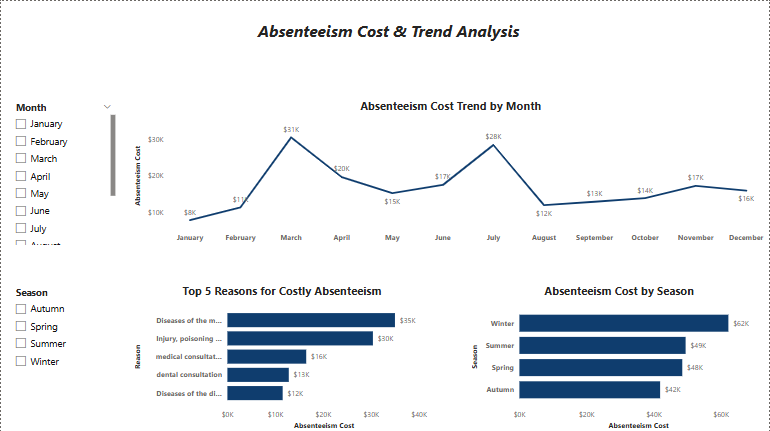

The page's visual inventory and layout, read from the dashboard file:
{"tool":"powerbi","page":{"name":"Trend and Cost Analysis","canvas":[1280,720],"ordinal":2},"visuals":[{"type":"lineChart","title":"Absenteeism Cost Trend by Month","fields":{"Y":["Sum(Absenteeism_at_work.Absenteeism Cost)"],"Category":["Absenteeism_at_work.Month Name"]},"box":[218,162.4,1062.4,250.2],"z":0},{"type":"clusteredBarChart","title":"Top 5 Reasons for Costly Absenteeism","fields":{"Category":["Absenteeism_at_work.Reason description"],"Y":["Sum(Absenteeism_at_work.Absenteeism Cost)"]},"box":[218,469.8,500.5,250.2],"z":1000},{"type":"clusteredBarChart","title":"Absenteeism Cost by Season","fields":{"Category":["Absenteeism_at_work.Season Description"],"Y":["Sum(Absenteeism_at_work.Absenteeism Cost)"]},"box":[780,469.8,500.5,250.2],"z":2000},{"type":"textbox","box":[11.7,26.3,1268.8,95.1],"z":3000},{"type":"slicer","fields":{"Values":["Absenteeism_at_work.Month Name"]},"box":[11.7,162.4,184.4,250.2],"z":4000},{"type":"slicer","fields":{"Values":["Absenteeism_at_work.Season Description"]},"box":[11.7,469.8,184.4,250.2],"z":5000}]}

Visuals, with their boxes in screenshot pixels (x1, y1, x2, y2), scaled from the page's 1280x720 canvas onto the 770x431 screenshot:
"Absenteeism Cost Trend by Month" lineChart: <region>131, 97, 769, 247</region>
"Top 5 Reasons for Costly Absenteeism" clusteredBarChart: <region>131, 281, 432, 430</region>
"Absenteeism Cost by Season" clusteredBarChart: <region>469, 281, 769, 430</region>
textbox: <region>7, 16, 769, 73</region>
slicer - Absenteeism_at_work.Month Name: <region>7, 97, 118, 247</region>
slicer - Absenteeism_at_work.Season Description: <region>7, 281, 118, 430</region>
